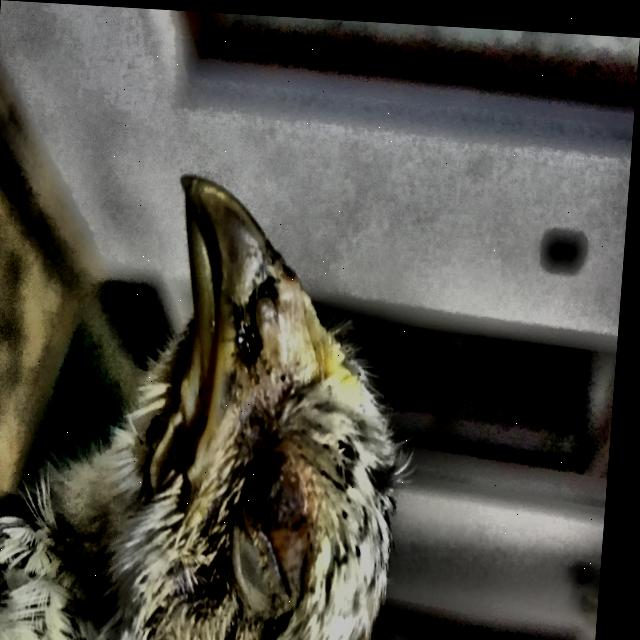Coryza: (7, 129, 440, 640)
